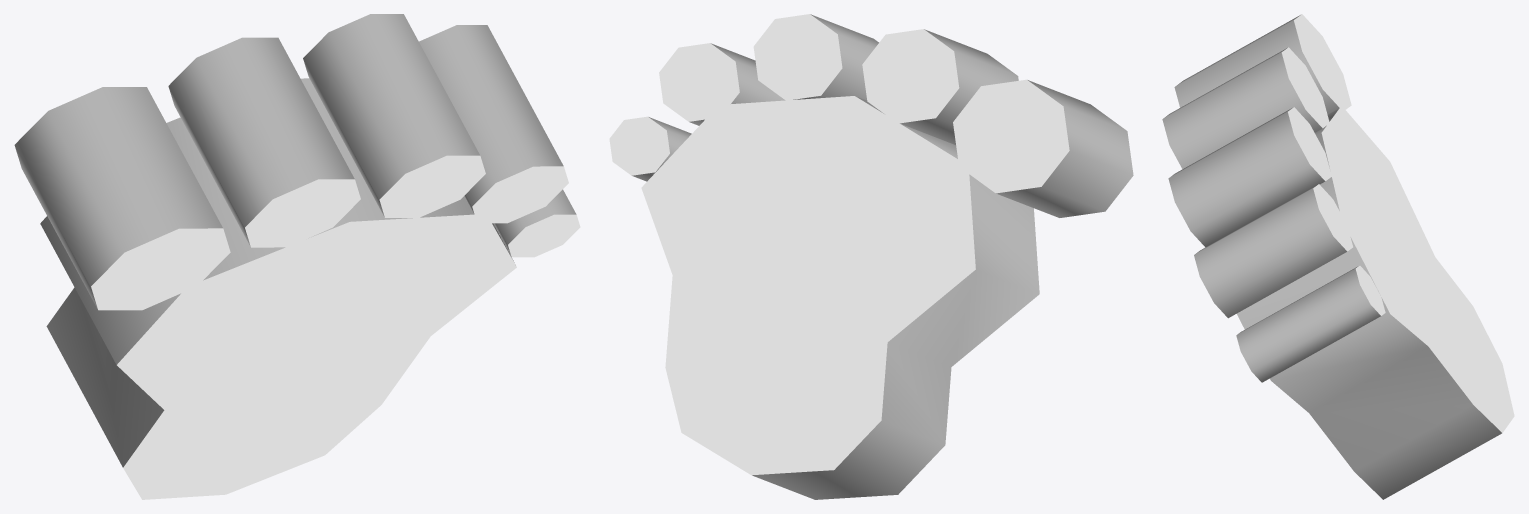
Rendered from ssfoot.ico.obj.
3 views of the same model, side by side, from view 1: azimuth 30°, elevation 25°; view 2: azimuth 150°, elevation 25°; view 3: azimuth 270°, elevation 25° (orthographic). The views are drawn at different scales.
Bounding box in the file's own units: 3.51 × 3.38 × 2.64.
Materials: 1 (1 with a texture image).
